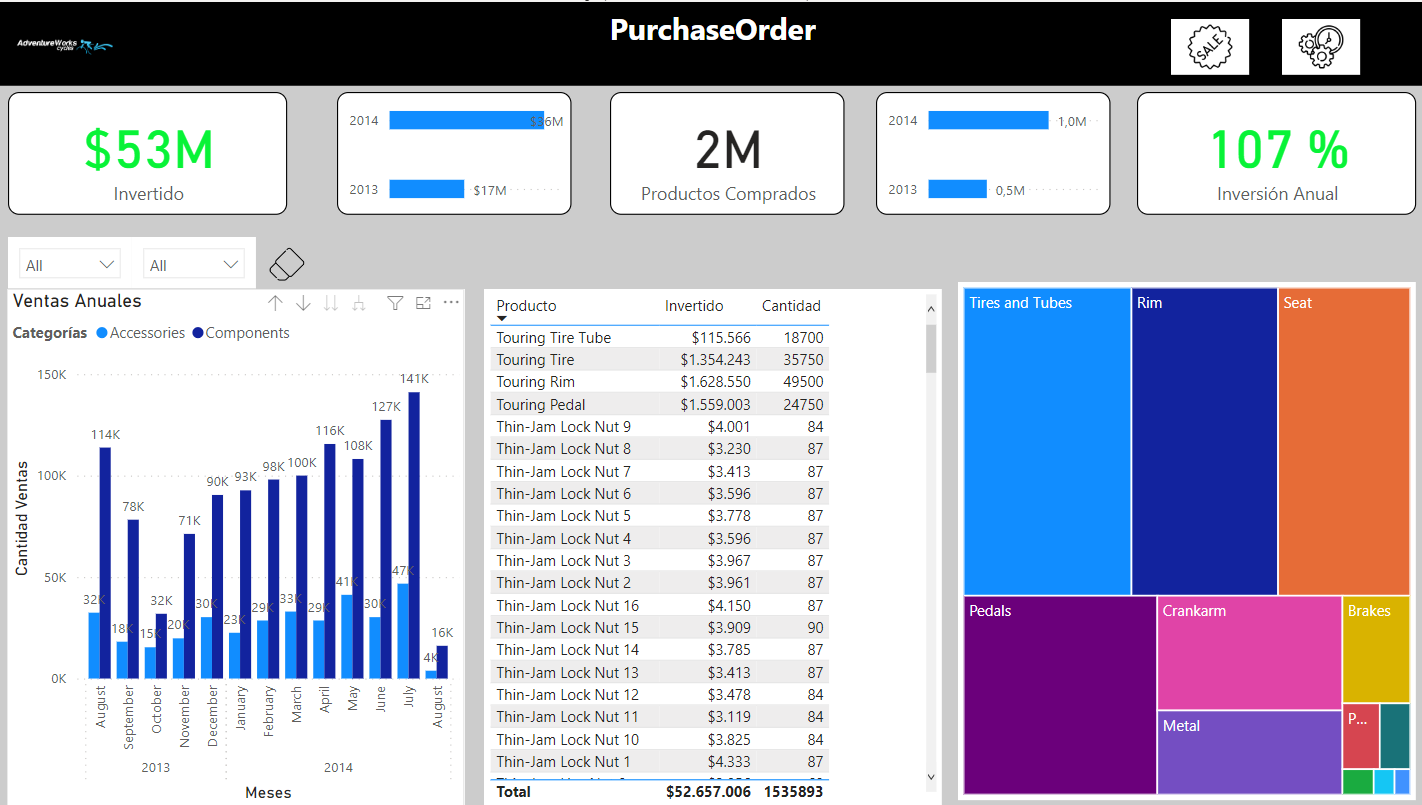

This screenshot's page, from the dashboard's own definition file:
{"tool":"powerbi","page":{"name":"PurchaseOrder","canvas":[1280,720],"ordinal":3},"visuals":[{"type":"actionButton","box":[0,0,40.3,40.3],"z":0},{"type":"textbox","box":[0,0,1279.7,75.2],"z":1000},{"type":"image","box":[0,0,120,80.6],"z":2000},{"type":"card","fields":{"Values":["Total.PricePurchase"]},"box":[9,80.6,250,110.1],"z":3000},{"type":"barChart","fields":{"Category":["Calendar.SalesDate.Variation.Date Hierarchy.Year"],"Y":["Sum(PurchaseOrder.TotalPrice)"]},"box":[303.6,80.6,209.6,110.1],"z":4000},{"type":"card","fields":{"Values":["Total.ProductPurchase"]},"box":[548.1,80.6,210.4,110.1],"z":5000},{"type":"barChart","fields":{"Category":["Calendar.SalesDate.Variation.Date Hierarchy.Year"],"Y":["Sum(PurchaseOrder.Quantity)"]},"box":[786.3,80.6,209.6,110.1],"z":6000},{"type":"card","fields":{"Values":["Total.PorcentajePurchase"]},"box":[1020,80.5,250,110.2],"z":7000},{"type":"clusteredColumnChart","title":"Ventas Anuales","fields":{"Series":["PurchaseOrder.Category.Name"],"Y":["Sum(PurchaseOrder.Quantity)"],"Category":["Calendar.SalesDate.Variation.Date Hierarchy.Year","Calendar.SalesDate.Variation.Date Hierarchy.Month"]},"box":[7.7,256.8,410.1,463.7],"z":8000},{"type":"tableEx","fields":{"Values":["PurchaseOrder.Name","Sum(PurchaseOrder.TotalPrice)","Sum(PurchaseOrder.Quantity)"]},"box":[435,256.8,410.1,463.7],"z":11000},{"type":"image","box":[1150,15,69.9,50.1],"z":12000},{"type":"image","box":[1050,15,69.9,50.1],"z":13000},{"type":"treemap","fields":{"Group":["PurchaseOrder.SubCategory.Name"],"Values":["Sum(PurchaseOrder.Quantity)"]},"box":[859.4,251,410.1,463.7],"z":14000},{"type":"slicer","fields":{"Values":["Calendar.SalesDate.Variation.Date Hierarchy.Year"]},"box":[8.6,210.8,111.1,46],"z":14250},{"type":"slicer","fields":{"Values":["Calendar.SalesDate.Variation.Date Hierarchy.Month"]},"box":[119.8,210.8,111.1,46],"z":14500},{"type":"image","box":[238.3,211.1,40.9,45.7],"z":14501}]}

Visuals, with their boxes in screenshot pixels (x1, y1, x2, y2), scaled from the page's 1280x720 canvas onto the 1422x805 screenshot:
actionButton: 0 0 45 45
textbox: 0 0 1421 84
image: 0 0 133 90
card - Total.PricePurchase: 10 90 288 213
barChart - Calendar.SalesDate.Variation.Date Hierarchy.Year x Sum(PurchaseOrder.TotalPrice): 337 90 570 213
card - Total.ProductPurchase: 609 90 843 213
barChart - Calendar.SalesDate.Variation.Date Hierarchy.Year x Sum(PurchaseOrder.Quantity): 874 90 1106 213
card - Total.PorcentajePurchase: 1133 90 1411 213
"Ventas Anuales" clusteredColumnChart: 9 287 464 804
tableEx - PurchaseOrder.Name x Sum(PurchaseOrder.TotalPrice): 483 287 939 804
image: 1278 17 1355 73
image: 1166 17 1244 73
treemap - PurchaseOrder.SubCategory.Name x Sum(PurchaseOrder.Quantity): 955 281 1410 799
slicer - Calendar.SalesDate.Variation.Date Hierarchy.Year: 10 236 133 287
slicer - Calendar.SalesDate.Variation.Date Hierarchy.Month: 133 236 257 287
image: 265 236 310 287
